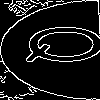Q: (25, 25, 100, 64)
